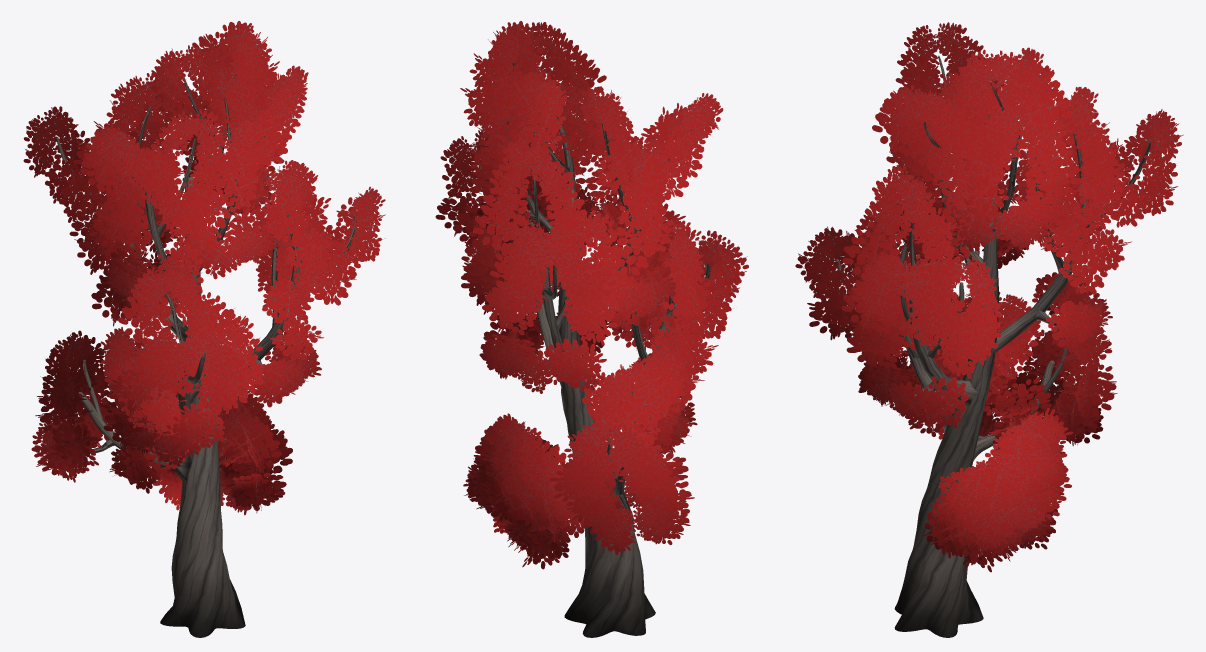
File: tree_twisted_4.glb
3 views of the same model, side by side, from view 1: azimuth 30°, elevation 25°; view 2: azimuth 150°, elevation 25°; view 3: azimuth 270°, elevation 25° (orthographic). The views are drawn at different scales.
Visible parts, largest first — view 1: TwistedTree_4; view 2: TwistedTree_4; view 3: TwistedTree_4.
Boxes of the visible parts, left/top/right/bottom form: TwistedTree_4: left=23, top=21, right=385, bottom=637; TwistedTree_4: left=435, top=21, right=748, bottom=637; TwistedTree_4: left=795, top=22, right=1183, bottom=637.
Bounding box in the file's own units: 10.38 × 18.74 × 11.29.
2 materials, 2 textured.
